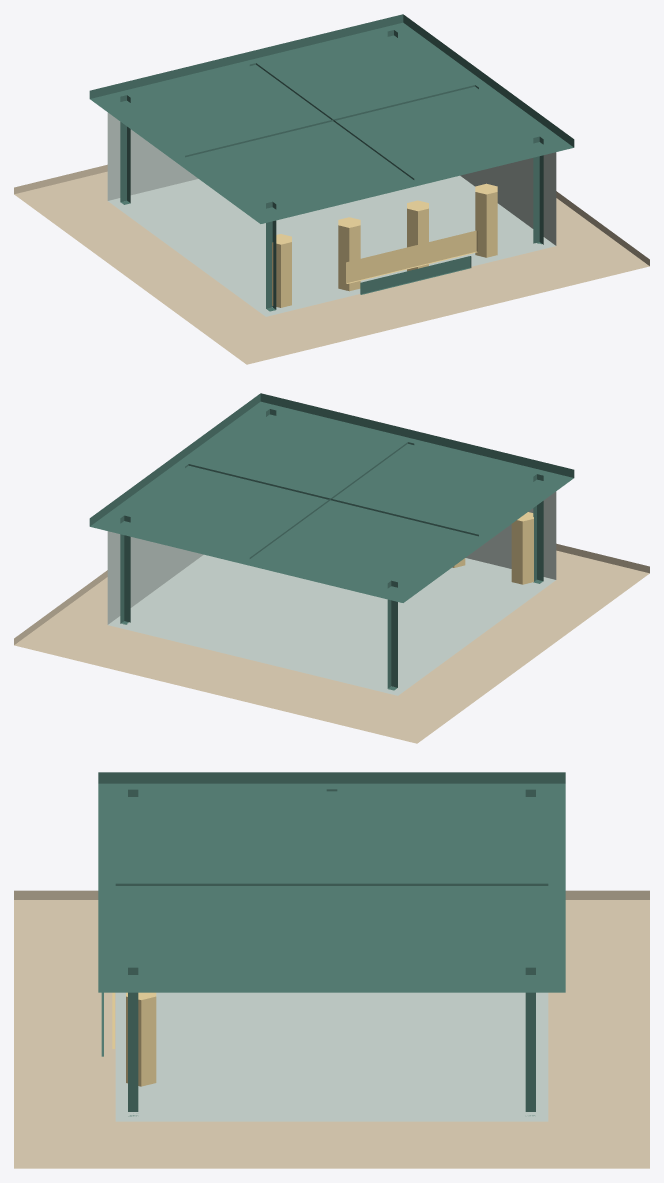
Rendered from logging_camp.glb.
The picture shows the model from 3 angles, top to bottom: view 1: azimuth 30°, elevation 25°; view 2: azimuth 150°, elevation 25°; view 3: azimuth 270°, elevation 25°; orthographic projection. The views are drawn at different scales.
Visible parts, largest first — view 1: Roof, Foundation, Walls, Details, Frame; view 2: Roof, Walls, Foundation, Frame, Details; view 3: Roof, Foundation, Walls, Frame, Details.
Boxes of the visible parts, x1,y1,x2,y2 form: Roof: (89,14,574,223); Foundation: (14,164,649,364); Walls: (107,112,556,316); Details: (272,183,497,307); Frame: (120,30,543,311); Roof: (89,393,574,602); Walls: (107,491,556,695); Foundation: (14,543,649,743); Frame: (120,409,543,690); Details: (452,512,533,584); Roof: (98,772,565,992); Foundation: (14,890,649,1168); Walls: (115,992,548,1121); Frame: (115,789,548,1116); Details: (101,992,156,1086).
Bounding box in the file's own units: 40 × 10.94 × 40.
